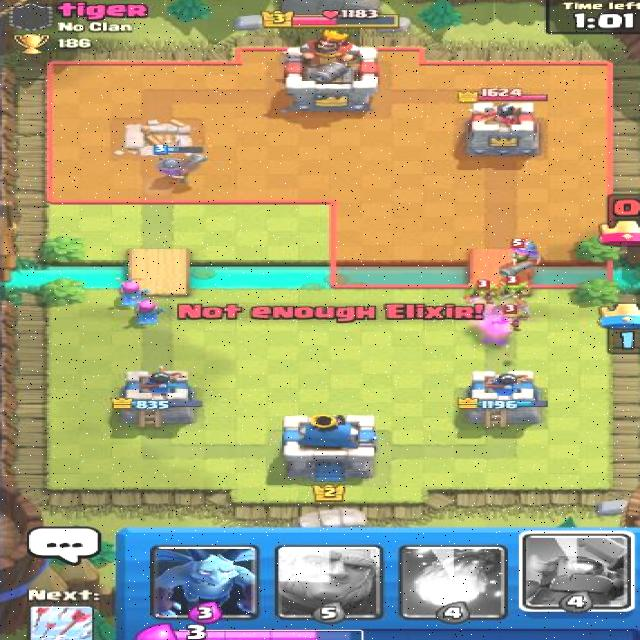Enemy-Goblin: (490, 274, 539, 303), (488, 303, 535, 333), (465, 276, 506, 309)
Enemy-Musketeer: (497, 237, 546, 277)
Player-Archer: (125, 294, 170, 326), (112, 275, 152, 310)
Player-Musketeer: (148, 143, 210, 187)
